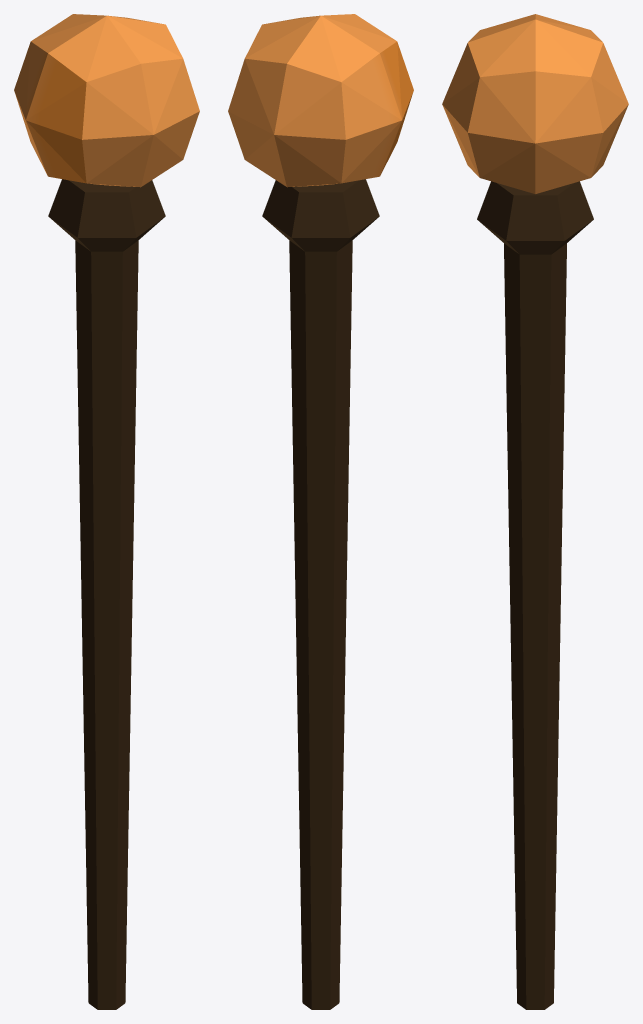
The model's file is Hero_Wand.fbx.
The picture shows the model from 3 angles, left to right: view 1: azimuth 30°, elevation 25°; view 2: azimuth 150°, elevation 25°; view 3: azimuth 270°, elevation 25°; orthographic projection.
Visible parts, largest first — view 1: Wank_Wood, Wand_Core; view 2: Wank_Wood, Wand_Core; view 3: Wank_Wood, Wand_Core.
Boxes of the visible parts, x1,y1,x2,y2 form: Wank_Wood: (48,179,165,1009); Wand_Core: (14,14,199,187); Wank_Wood: (262,179,379,1009); Wand_Core: (228,14,413,187); Wank_Wood: (477,181,593,1009); Wand_Core: (442,14,628,193).
Bounding box in the file's own units: 0.3044 × 1.77 × 0.3044.
